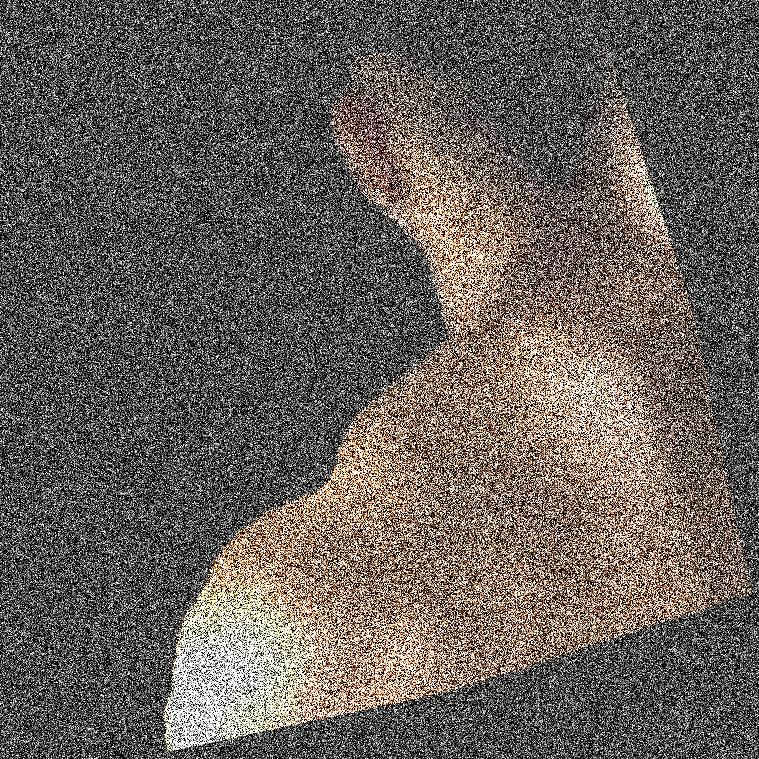Pessoa: (473, 0, 758, 758)
